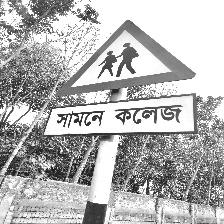College-in-front: (45, 8, 205, 160)
